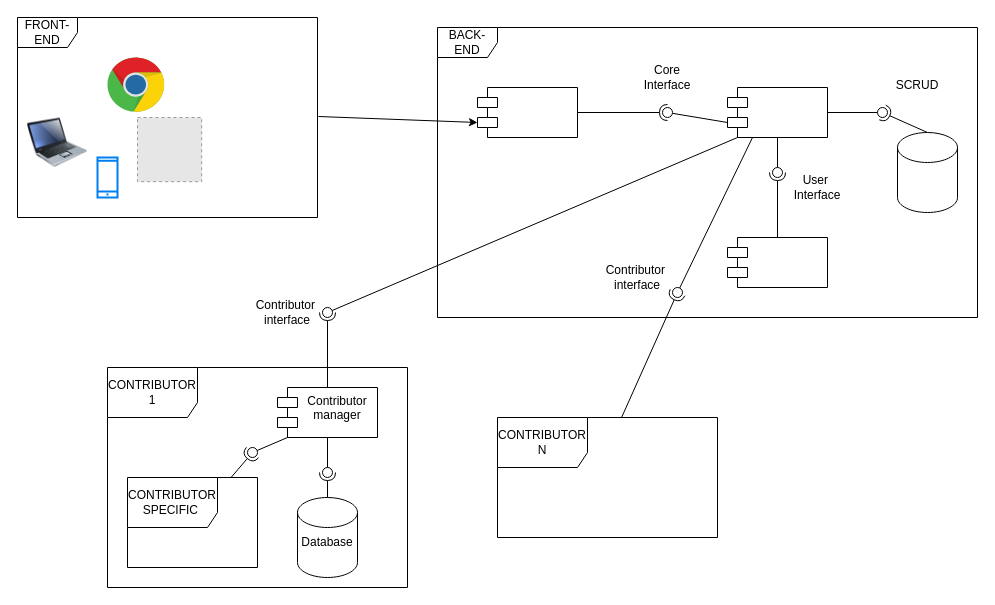
Image size: 995x605. Some labels were removed from this diagram. Grey dashed boxes stand in for pictures. The box of each missing label's shape, as (x1, y1, x2, y2) in pixels:
Core: (726, 86, 828, 138)
User manager: (726, 236, 828, 288)
Visualizer: (476, 86, 578, 138)
